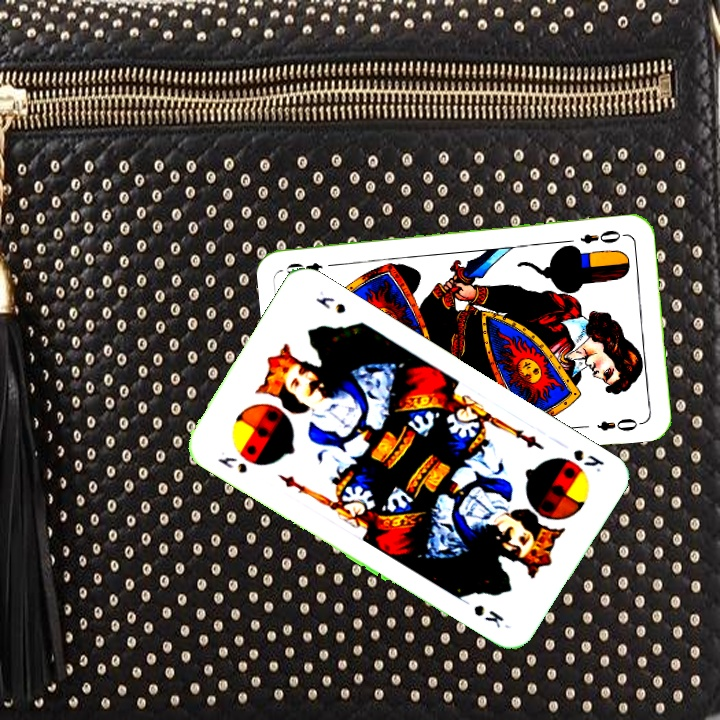EO: (576, 226, 628, 247)
SK: (569, 445, 607, 475), (214, 452, 250, 476)
